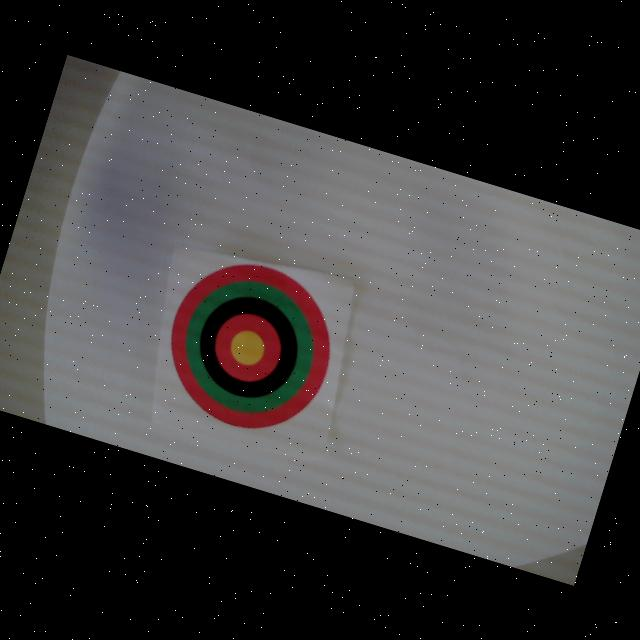COGNITIVE: (150, 245, 350, 448)
